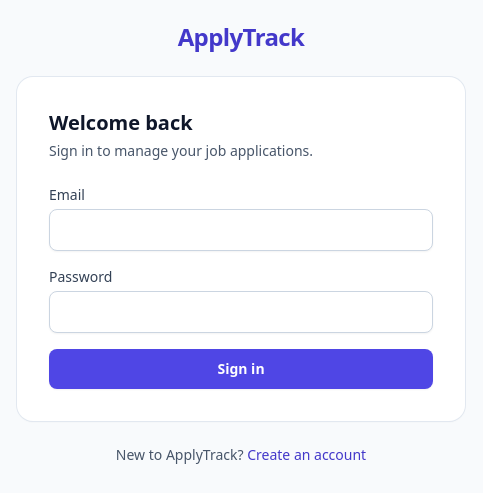
LoginPage › rejects a malformed email locally
Type "not-an-email" into the field labelled "Email". click: (241, 230)
box: [49, 209, 433, 251]
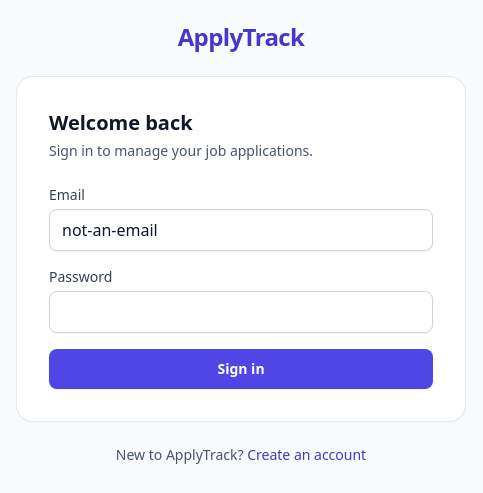
Type "x" into the password field labelled "Password". click: (241, 312)
box: [49, 291, 433, 333]
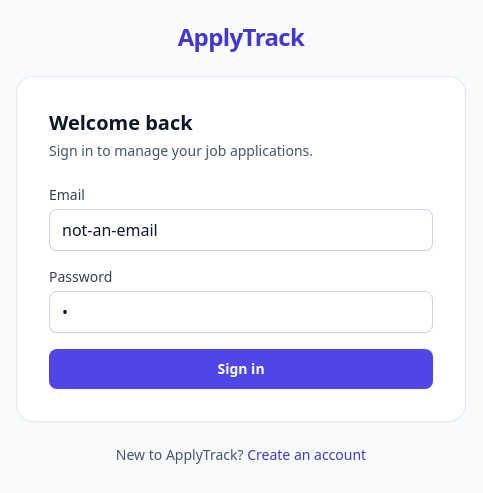
Click the button "Sign in". click: (241, 369)
box: [49, 349, 433, 389]
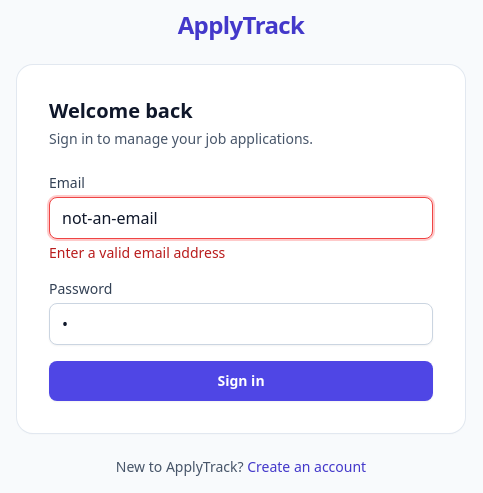
Now the text "Enter a valid email address" is shown, box [49, 243, 225, 262]
